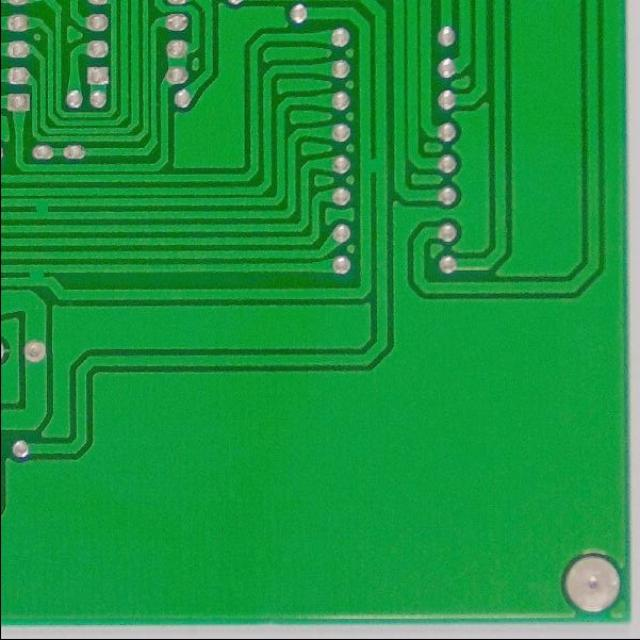short: (357, 148, 388, 184), (28, 196, 55, 223), (23, 263, 47, 293)
